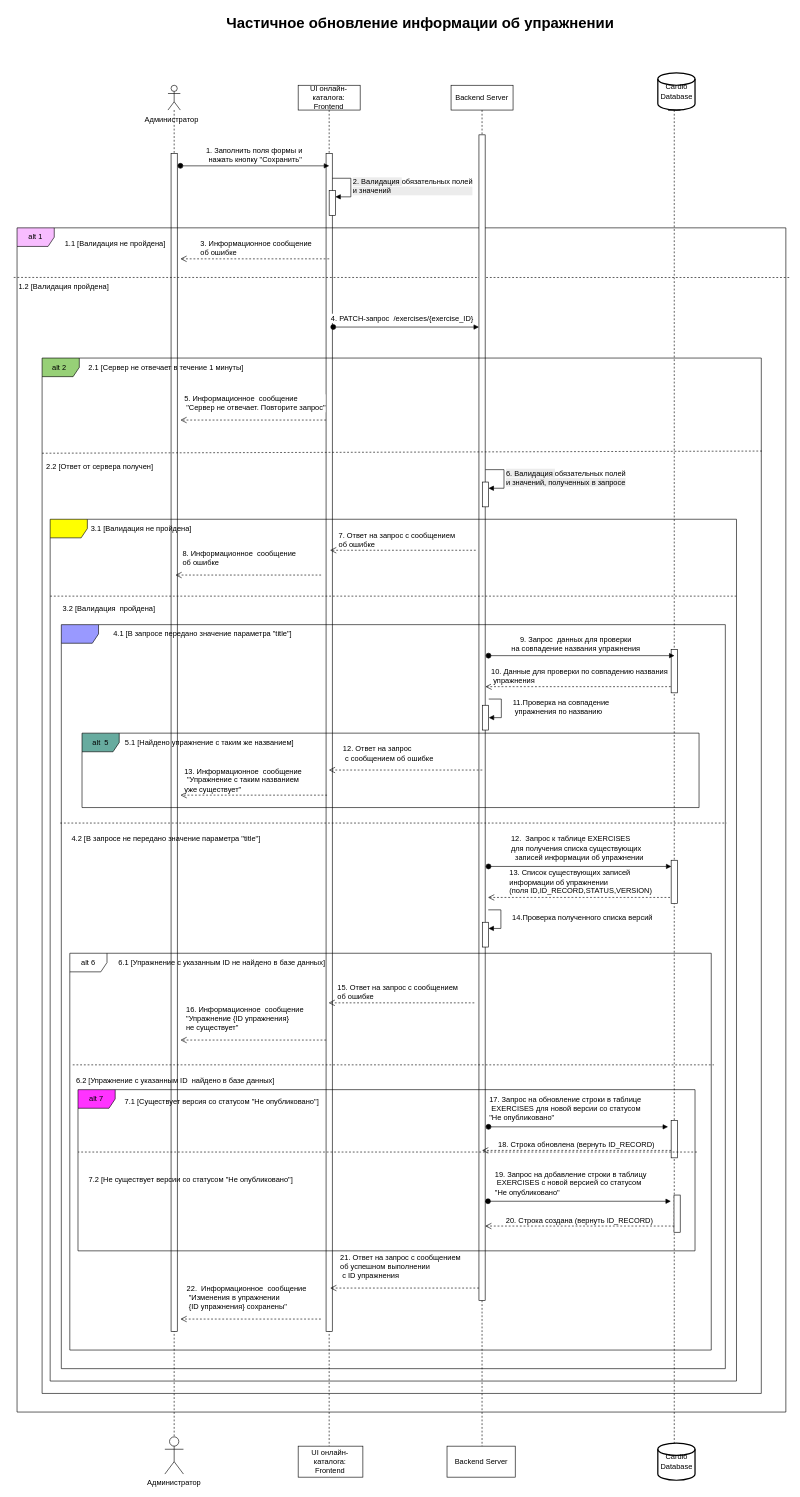
This 800x1497 diagram has some shape labels left out. The box of each missing label's shape, as (x1, y1, x2, y2) in pixels:
alt 3: (50, 519, 736, 1381)
alt 4: (61, 624, 725, 1369)
